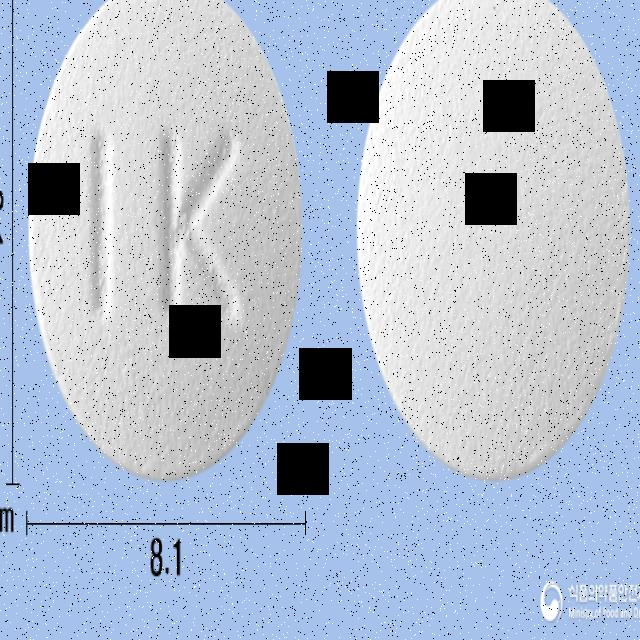Lesacra: (26, 0, 303, 480)
